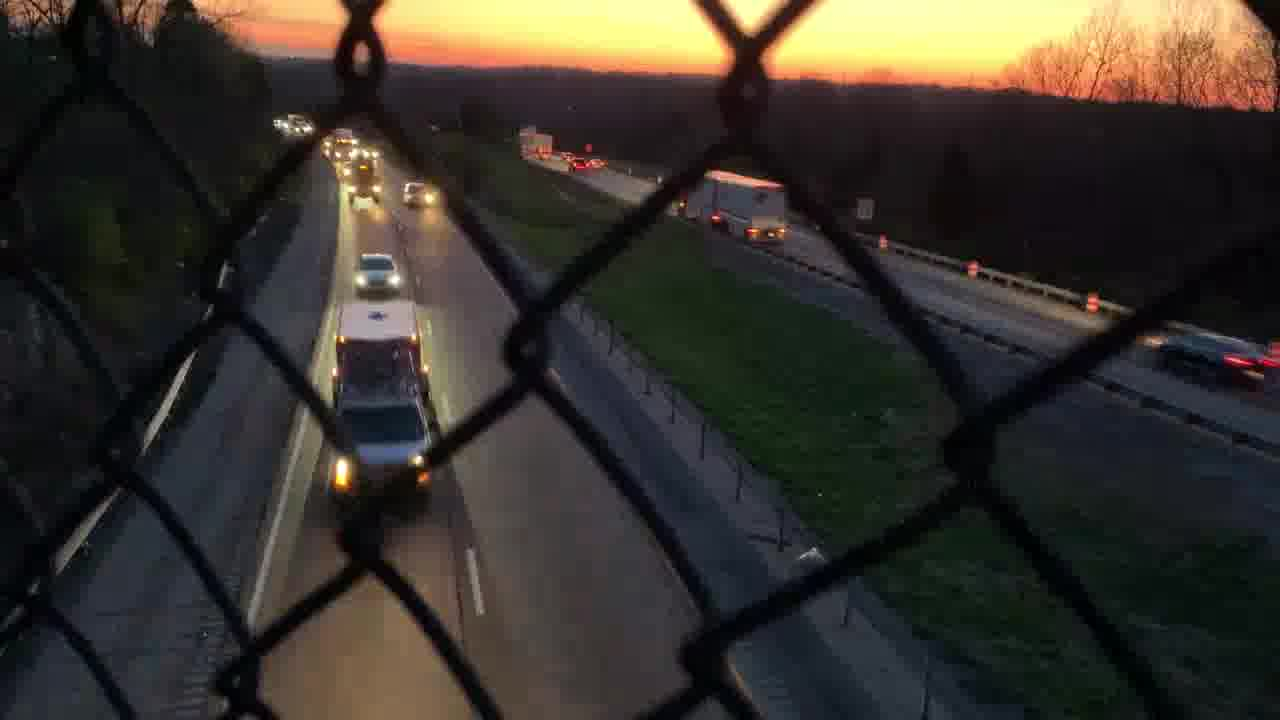heavyTruck: (325, 300, 439, 516), (674, 170, 788, 249), (343, 157, 382, 201)
smallCar: (1148, 333, 1280, 395), (350, 256, 403, 299), (399, 178, 438, 211)
